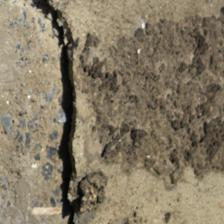Crack: (15, 1, 95, 222)
